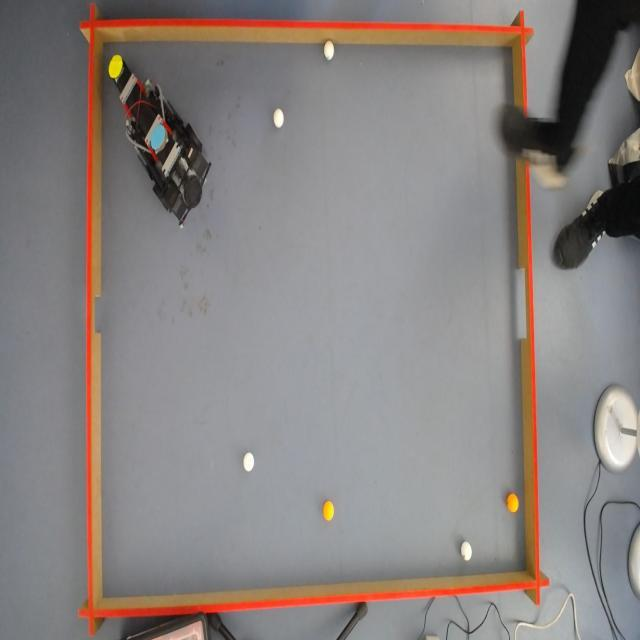orange: (506, 494, 522, 514), (322, 499, 335, 522)
robot: (108, 56, 202, 230)
robot-front: (108, 54, 126, 80)
robot-rear: (150, 122, 167, 154)
white: (322, 41, 335, 62), (461, 540, 473, 562), (243, 452, 254, 472), (273, 110, 284, 128)
